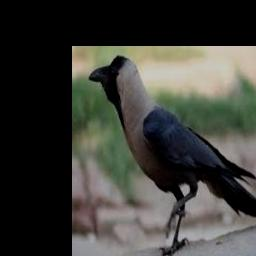Crow: (88, 55, 256, 256)
